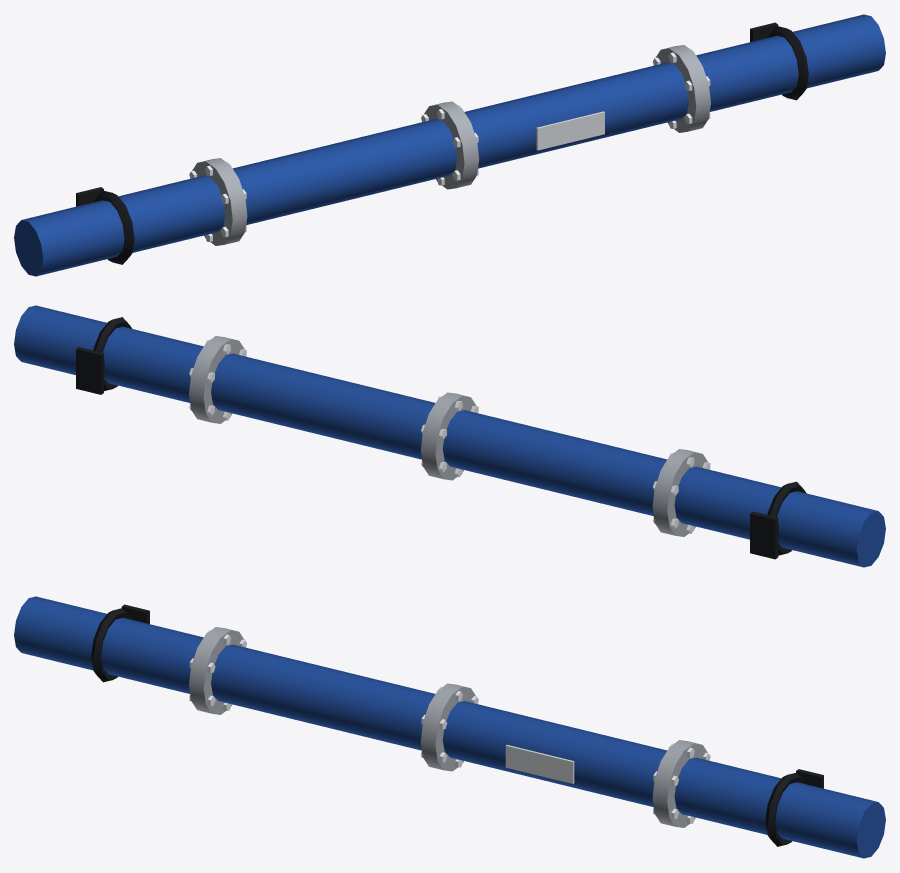
File: pipe_flanged_joints.glb
3 renders of one model, top to bottom at view 1: azimuth 30°, elevation 25°; view 2: azimuth 150°, elevation 25°; view 3: azimuth 330°, elevation 25°, orthographic.
Parts seen in each view (by area): view 1: pipe_flanged_joints; view 2: pipe_flanged_joints; view 3: pipe_flanged_joints.
Part boxes in pixels (x1,y1,x2,y2): pipe_flanged_joints: (14, 14, 885, 276); pipe_flanged_joints: (14, 305, 885, 567); pipe_flanged_joints: (14, 596, 885, 858).
Bounding box in the file's own units: 2 × 0.1755 × 0.19.
